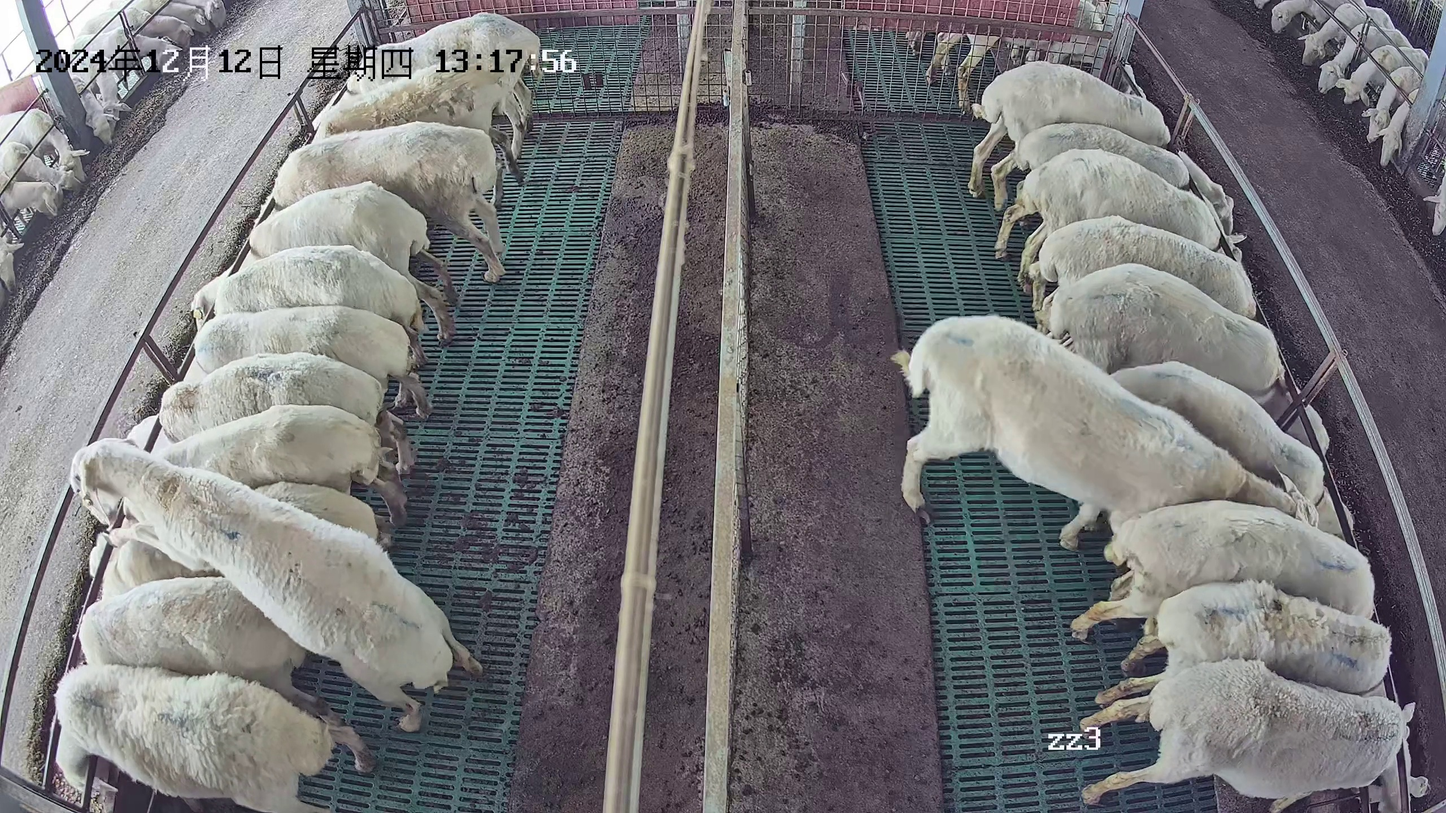Nmounting: (66, 436, 482, 733)
